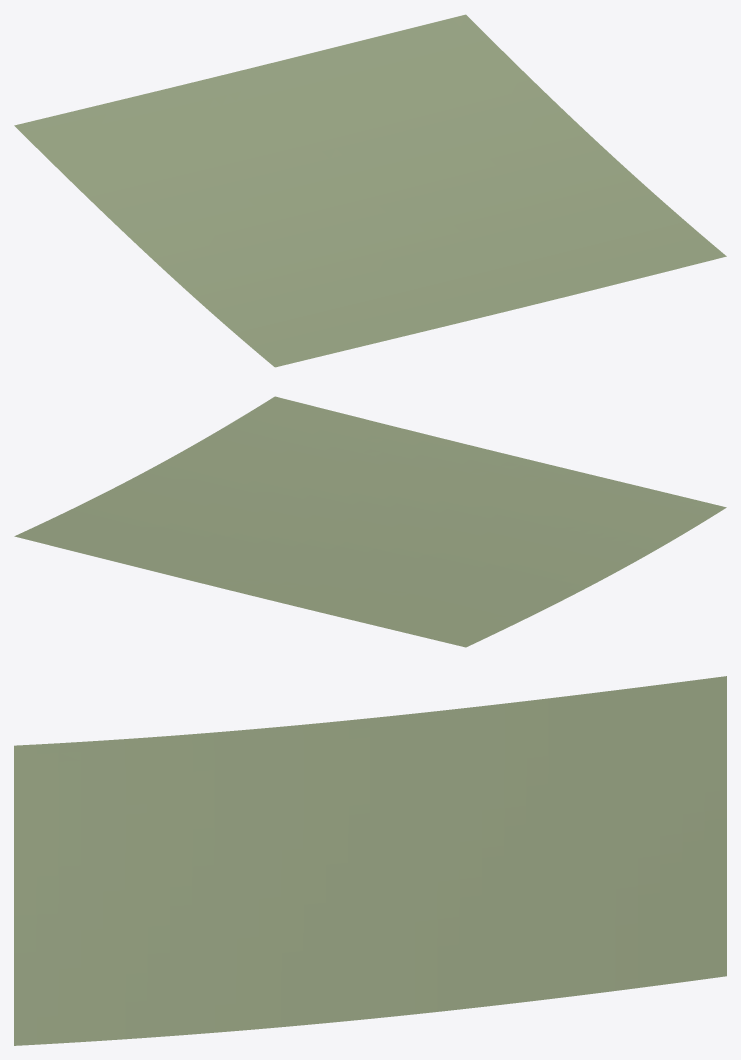
The model's file is desert-30-12.glb.
The picture shows the model from 3 angles, top to bottom: view 1: azimuth 30°, elevation 25°; view 2: azimuth 150°, elevation 25°; view 3: azimuth 270°, elevation 25°; orthographic projection. The views are drawn at different scales.
Parts seen in each view (by area): view 1: desert-30-12; view 2: desert-30-12; view 3: desert-30-12.
Boxes of the visible parts, <box> form: desert-30-12: <box>14,14,726,367</box>; desert-30-12: <box>14,396,726,647</box>; desert-30-12: <box>14,676,726,1045</box>.
Bounding box in the file's own units: 512 × 56.54 × 512.
